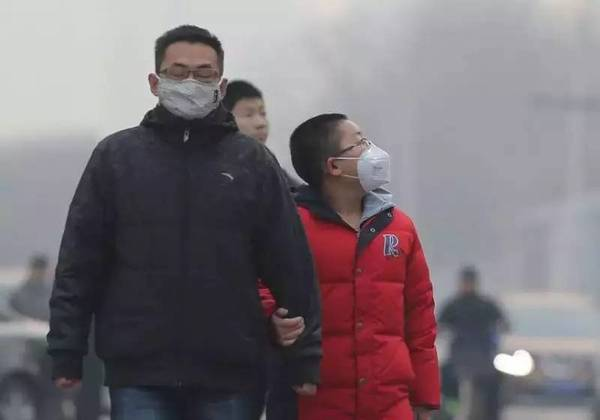face: (229, 99, 268, 141)
face_mask: (158, 45, 223, 114), (340, 123, 389, 190)
